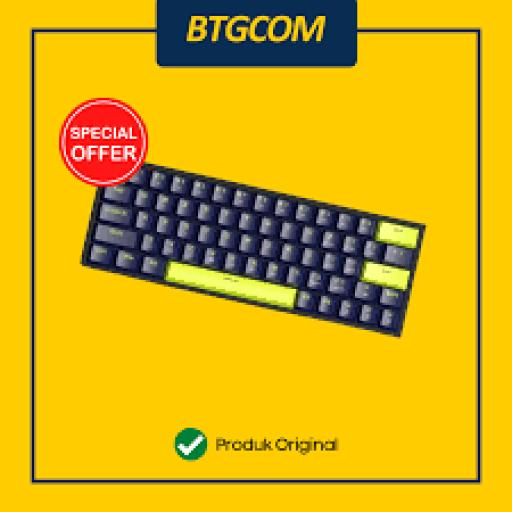KEYBOARD-2: (84, 164, 423, 335)
